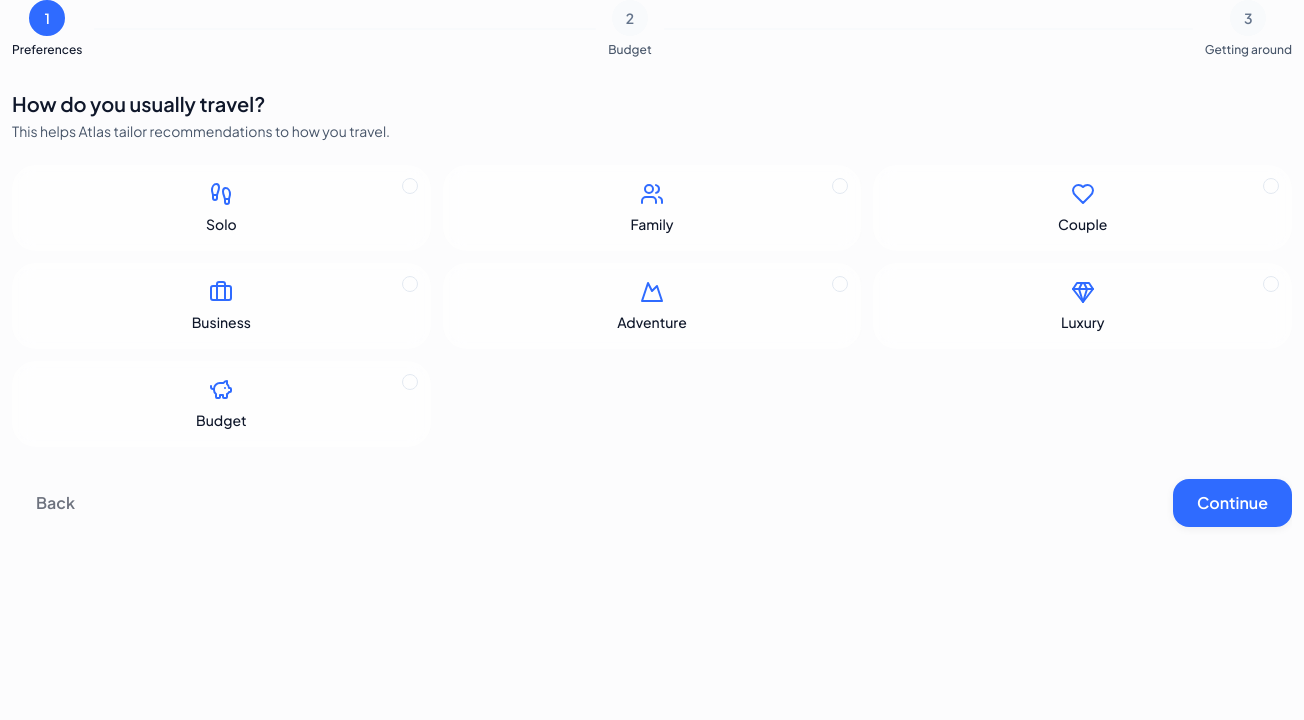
Test: ProfileWizard › shows a validation error when Continue is pressed with nothing selected
Expected: the heading "How do you usually travel?" is shown, [12, 91, 265, 116]
Click the button "Continue".
click(1232, 503)  # box [1173, 479, 1292, 527]
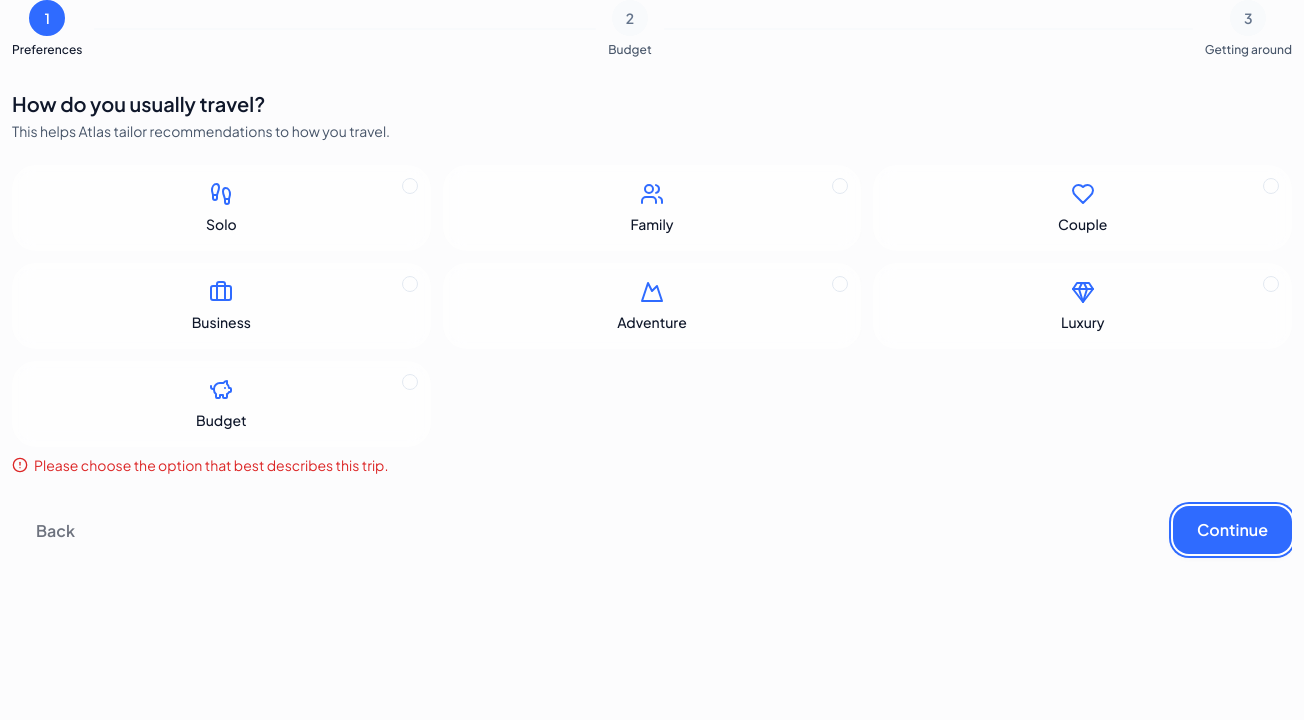
Now the text "Please choose the option that best describes this trip." is shown, box [12, 456, 388, 474]
